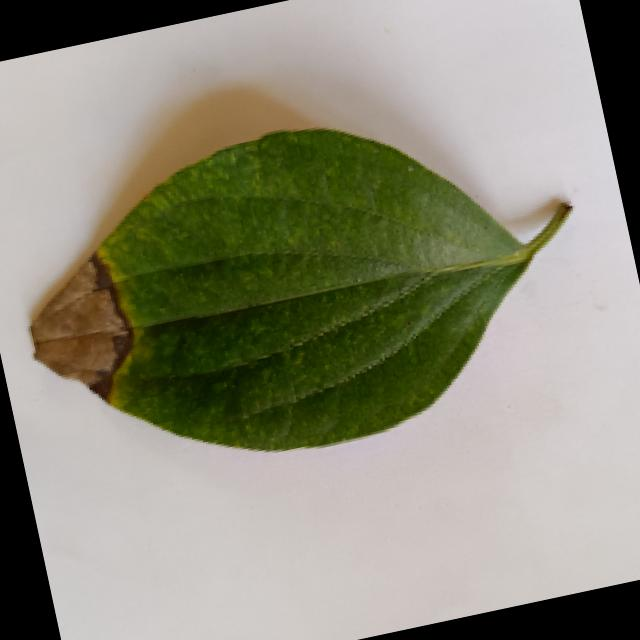footrot: (0, 74, 607, 501)
